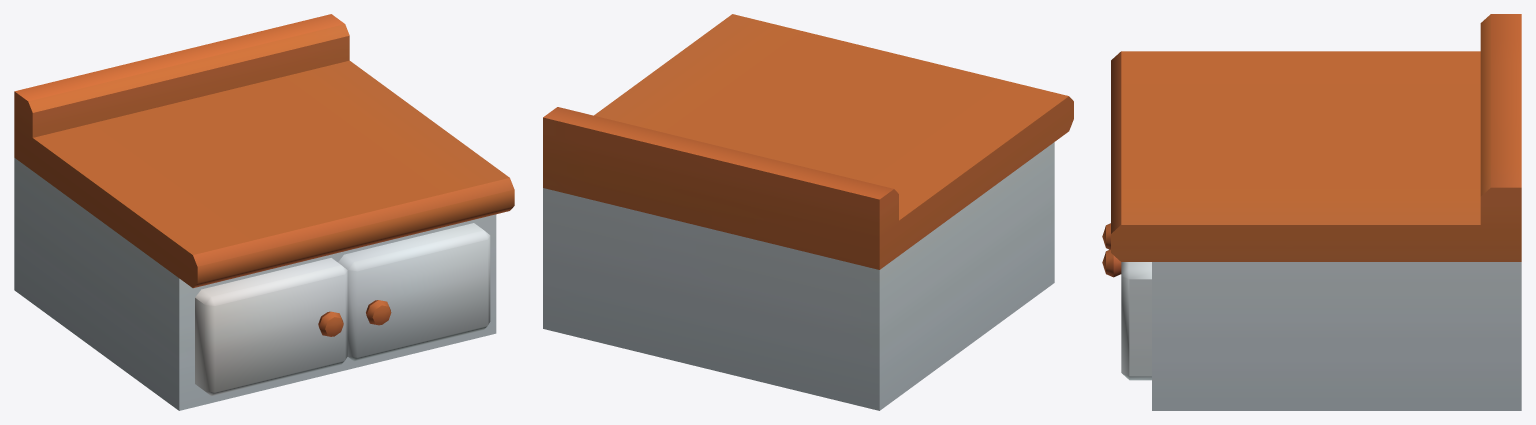
The model's file is kkr.kitchencounter_straight_b_backsplash.glb.
3 views of the same model, side by side, from view 1: azimuth 30°, elevation 25°; view 2: azimuth 150°, elevation 25°; view 3: azimuth 270°, elevation 25° (orthographic). The views are drawn at different scales.
Visible parts, largest first — view 1: kitchencounter_straight_B_backsplash; view 2: kitchencounter_straight_B_backsplash; view 3: kitchencounter_straight_B_backsplash.
Boxes of the visible parts, x1,y1,x2,y2 form: kitchencounter_straight_B_backsplash: (14, 14, 514, 410); kitchencounter_straight_B_backsplash: (543, 14, 1073, 410); kitchencounter_straight_B_backsplash: (1102, 14, 1521, 410).
Size of the model in its own units: 1.49 by 0.8941 by 1.52.
1 material, 1 textured.
